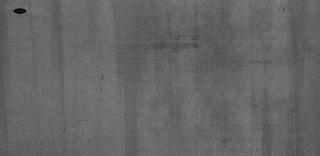oil spot: (138, 30, 205, 54), (279, 6, 287, 13)
punching hole: (11, 6, 29, 16)
